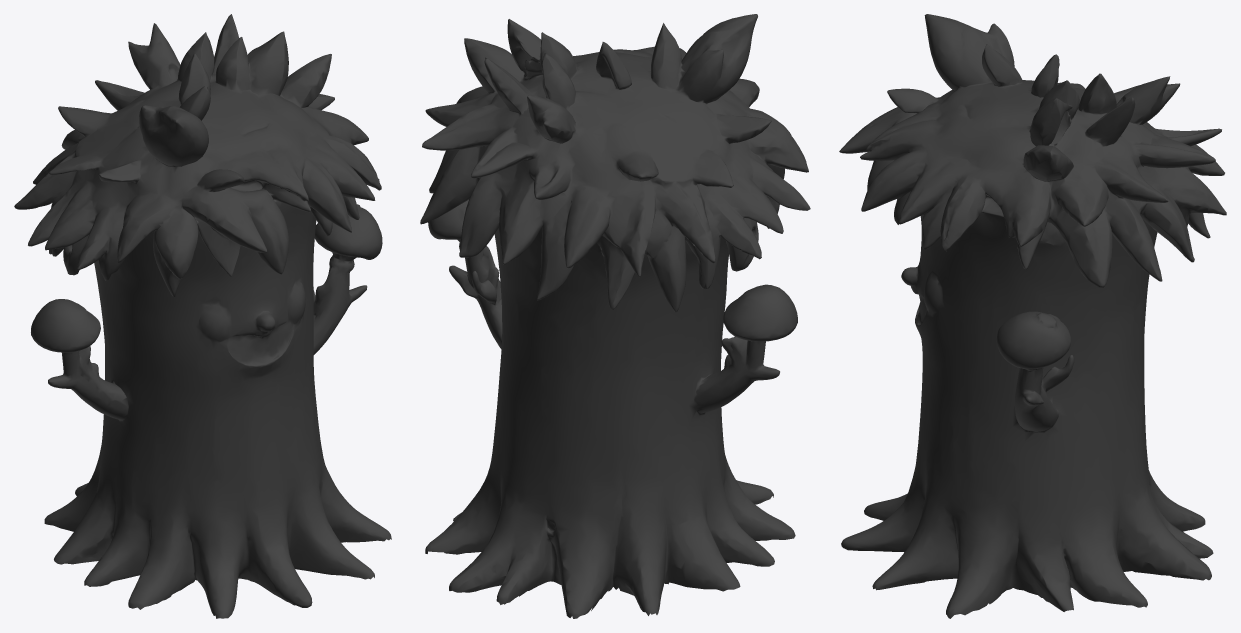
The model's file is raiz.glb.
The picture shows the model from 3 angles, left to right: view 1: azimuth 30°, elevation 25°; view 2: azimuth 150°, elevation 25°; view 3: azimuth 270°, elevation 25°; orthographic projection. The views are drawn at different scales.
Visible parts, largest first — view 1: geometry_0; view 2: geometry_0; view 3: geometry_0.
Boxes of the visible parts, bbox=[...] form: geometry_0: bbox=[14, 14, 391, 618]; geometry_0: bbox=[420, 14, 810, 618]; geometry_0: bbox=[839, 14, 1226, 618].
Bounding box in the file's own units: 0.7114 × 0.9693 × 0.6904.
Materials: 1 (1 with a texture image).
